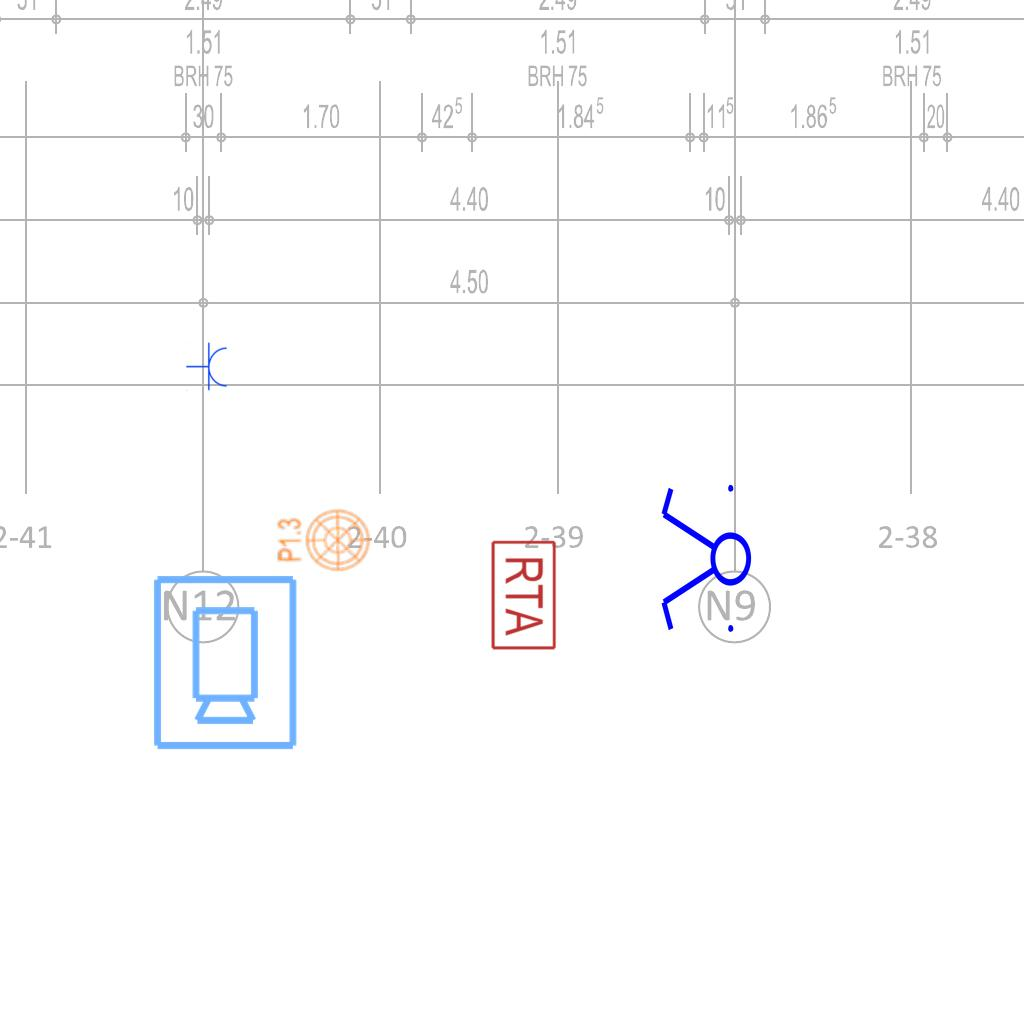Aufbaurundleuchte_LED_Treppenhaus: (269, 503, 371, 572)
KFO_Kamera_mit_Festobjektiv: (147, 571, 301, 753)
Ruf-und_Abstelltaster: (489, 537, 558, 651)
Schukosteckdose_einfach: (186, 342, 229, 392)
Serienschalter: (657, 476, 753, 644)
